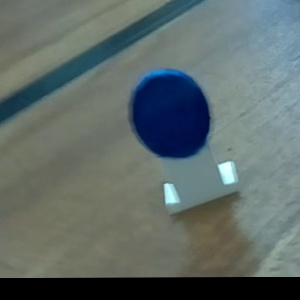circle: (125, 64, 245, 218)
